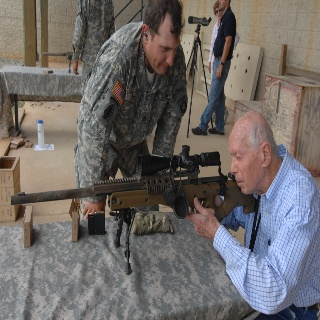rifle: (9, 145, 259, 278)
